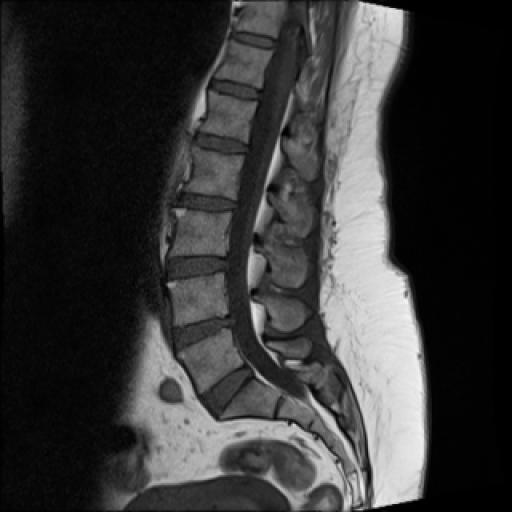L1: (202, 91, 257, 142)
L2: (185, 145, 245, 200)
L3: (170, 208, 232, 256)
L4: (167, 273, 229, 326)
L5: (178, 329, 243, 392)
S1: (220, 378, 280, 418)
